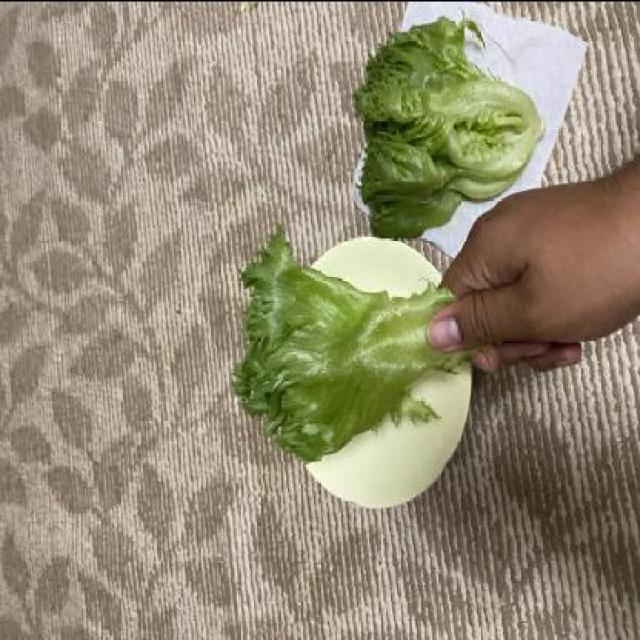Lettuce: (234, 229, 474, 470), (350, 12, 546, 246)
